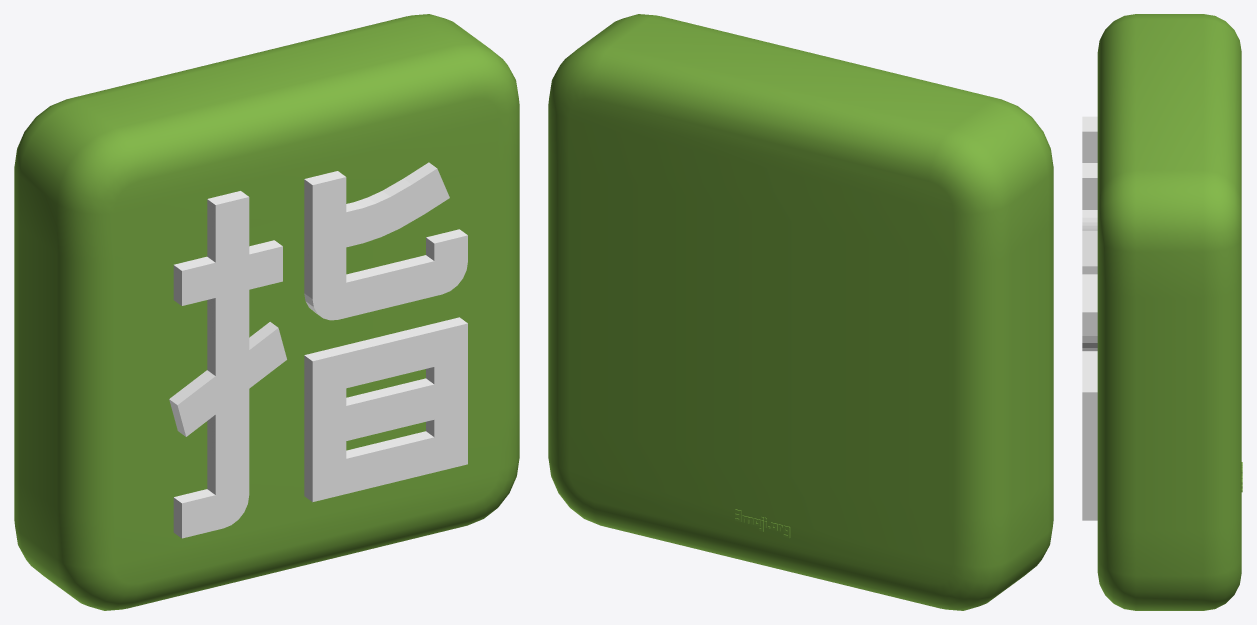
Rendered from japanese_reserved_button.gltf.
3 views of the same model, side by side, from view 1: azimuth 30°, elevation 25°; view 2: azimuth 150°, elevation 25°; view 3: azimuth 270°, elevation 25° (orthographic). The views are drawn at different scales.
Parts seen in each view (by area): view 1: Cube.6653; view 2: Cube.6653; view 3: Cube.6653.
Part boxes in pixels (bbox=[...]): Cube.6653: bbox=[14, 14, 519, 610]; Cube.6653: bbox=[548, 14, 1053, 610]; Cube.6653: bbox=[1082, 14, 1242, 610].
Bounding box in the file's own units: 2.2 × 2.2 × 0.7337.
1 material, 1 textured.
